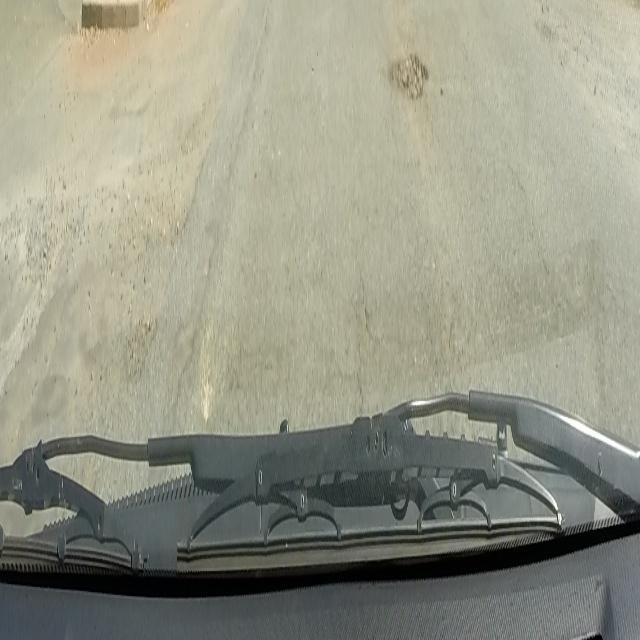pothole: (386, 44, 429, 102)
